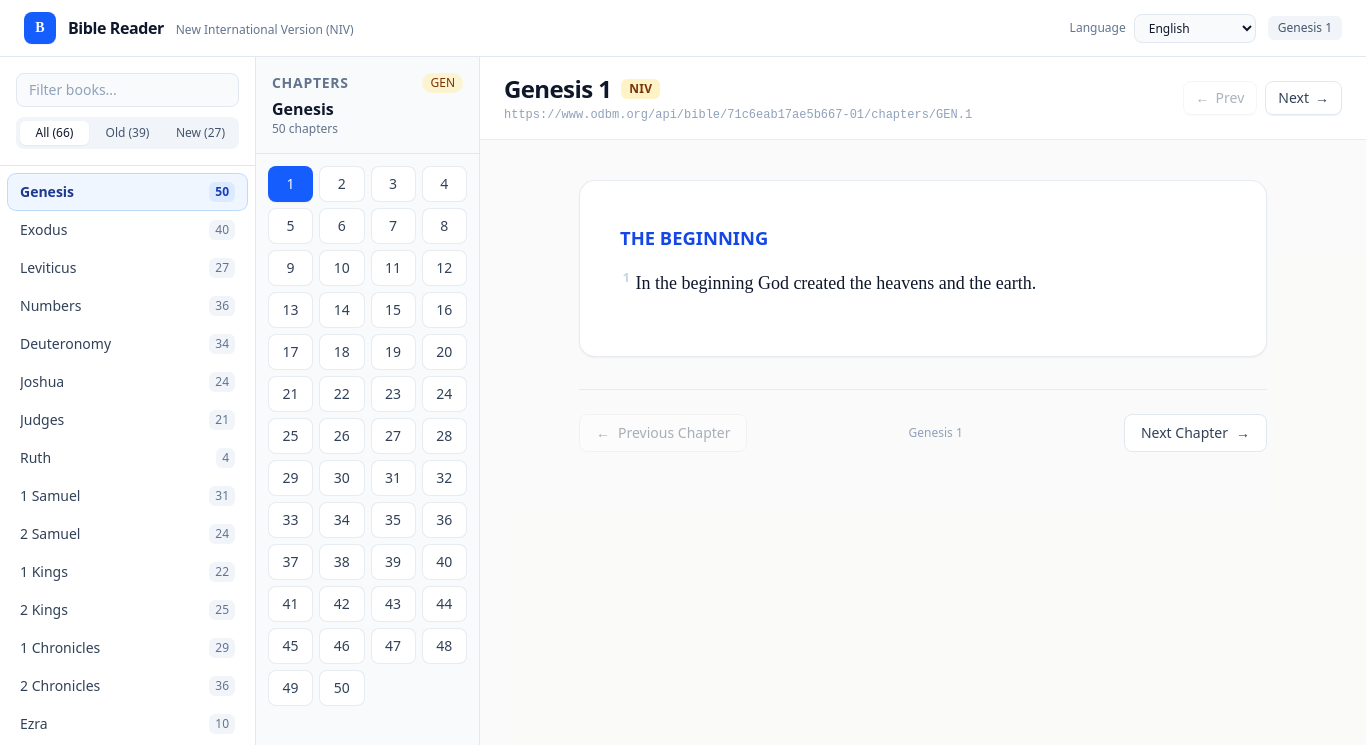
Test case: Bible App › allows the user to choose Chinese language (c44765fbdfdb0ed9-01) and fetches Chinese chapter content
Step 1. Select "Chinese (中文)" in the dropdown with test id "language-select" → (1195, 28), box [1134,14,1256,42]
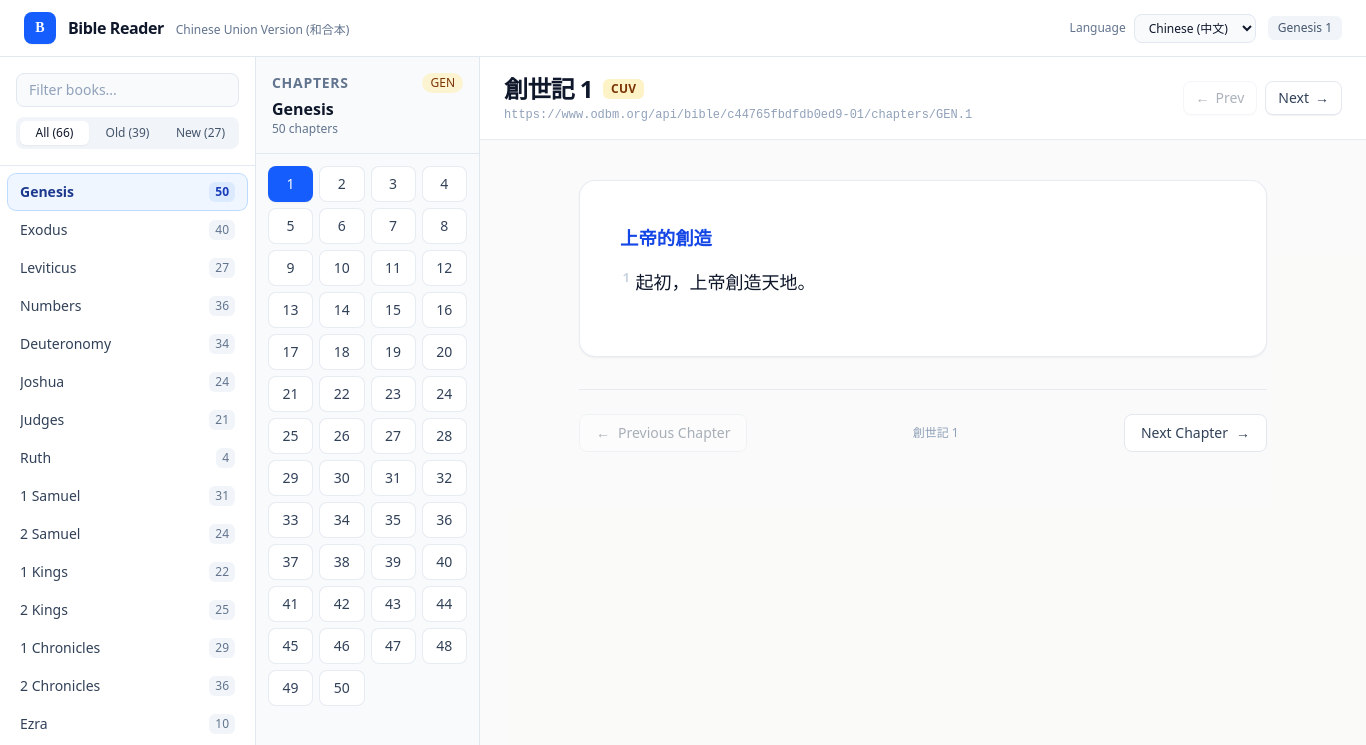
Result: the heading with test id "chapter-reference" reads "創世記 1" at [504,72,593,105]
Result: the text with test id "bible-version-badge" reads "CUV" at [611,80,636,97]
Result: the element with test id "bible-content" shows "起初，上帝創造天地。" at [635,273,815,293]
